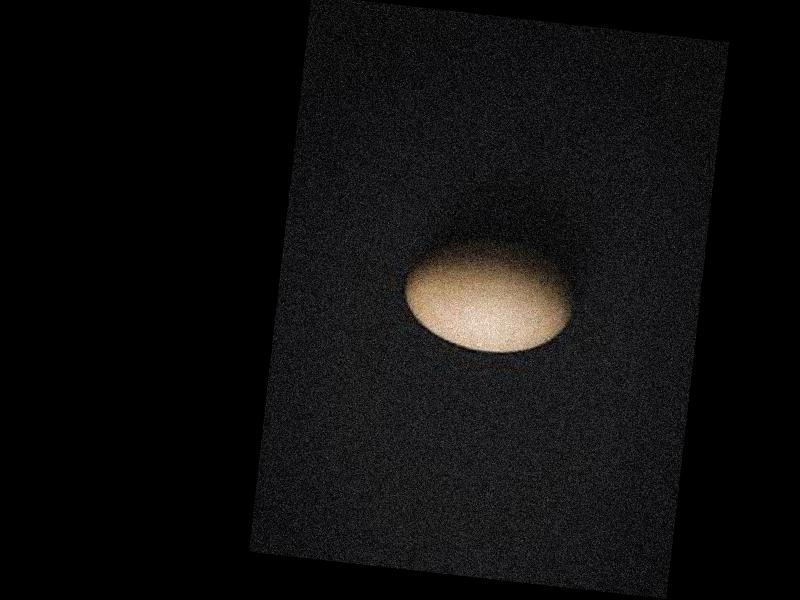Eggs: (395, 233, 580, 360)
